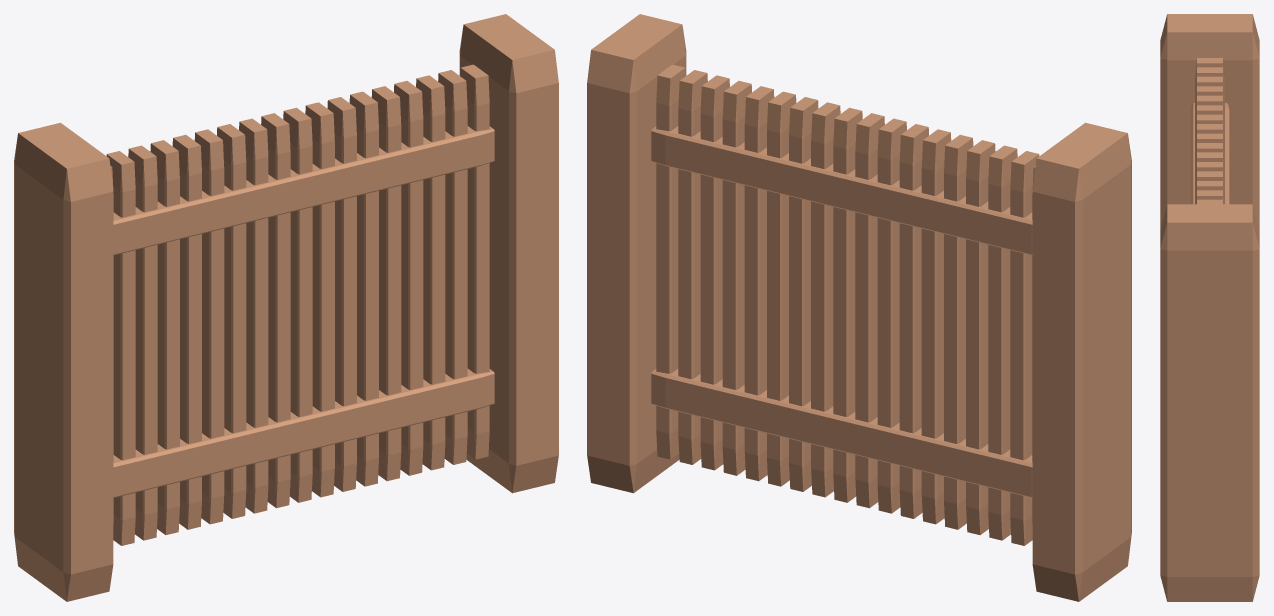
Rendered from b19_picket_garden_gate.glb.
3 views of the same model, side by side, from view 1: azimuth 30°, elevation 25°; view 2: azimuth 150°, elevation 25°; view 3: azimuth 270°, elevation 25° (orthographic). The views are drawn at different scales.
Visible parts, largest first — view 1: b19_picket_garden_gate; view 2: b19_picket_garden_gate; view 3: b19_picket_garden_gate.
Boxes of the visible parts, x1,y1,x2,y2 form: b19_picket_garden_gate: (14, 14, 558, 601); b19_picket_garden_gate: (587, 14, 1131, 601); b19_picket_garden_gate: (1160, 14, 1259, 601).
Size of the model in its own units: 1.57 by 1.31 by 0.312.
